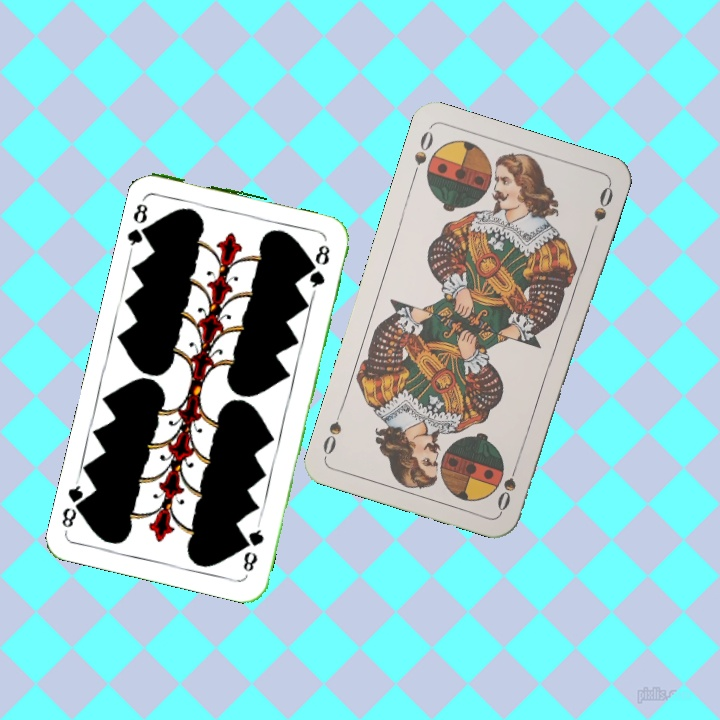G8: (124, 193, 155, 252), (239, 519, 266, 575)
SO: (493, 456, 521, 514), (408, 126, 436, 182)
